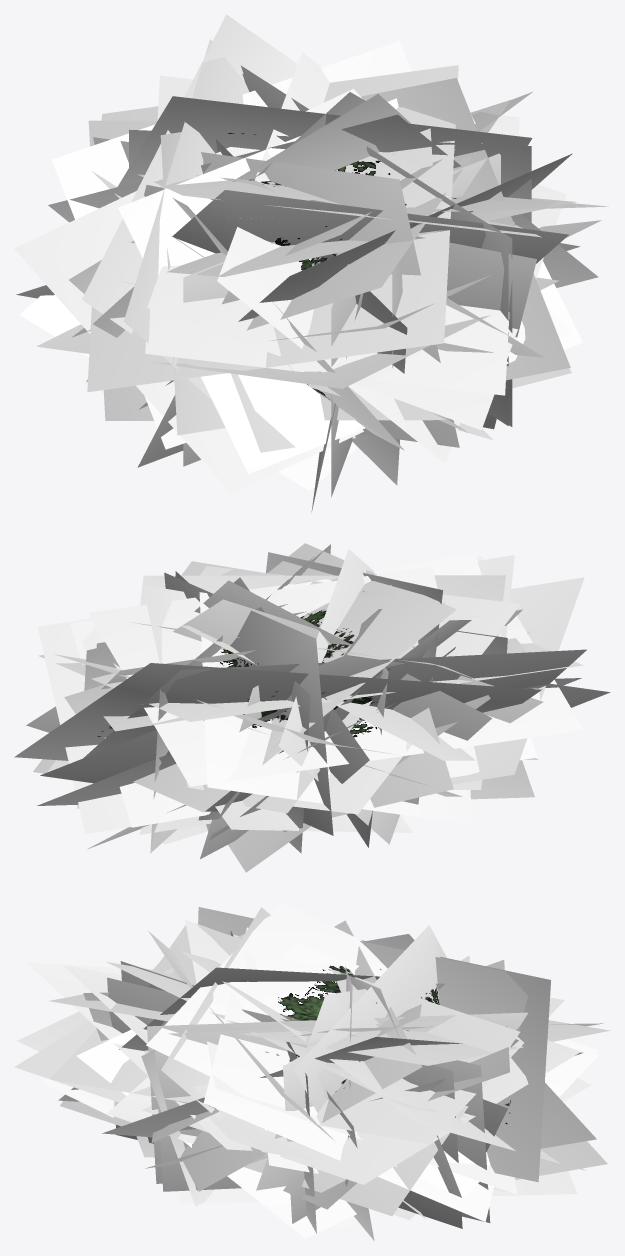
The model's file is Buisson 1.fbx.
3 views of the same model, one above another, from view 1: azimuth 30°, elevation 25°; view 2: azimuth 150°, elevation 25°; view 3: azimuth 270°, elevation 25° (orthographic). The views are drawn at different scales.
Parts seen in each view (by area): view 1: pPlane168; view 2: pPlane168; view 3: pPlane168.
Boxes of the visible parts, x1,y1,x2,y2 form: pPlane168: (14, 14, 608, 511); pPlane168: (14, 543, 610, 872); pPlane168: (14, 901, 609, 1240).
Bounding box in the file's own units: 0.6055 × 0.3091 × 0.6962.
